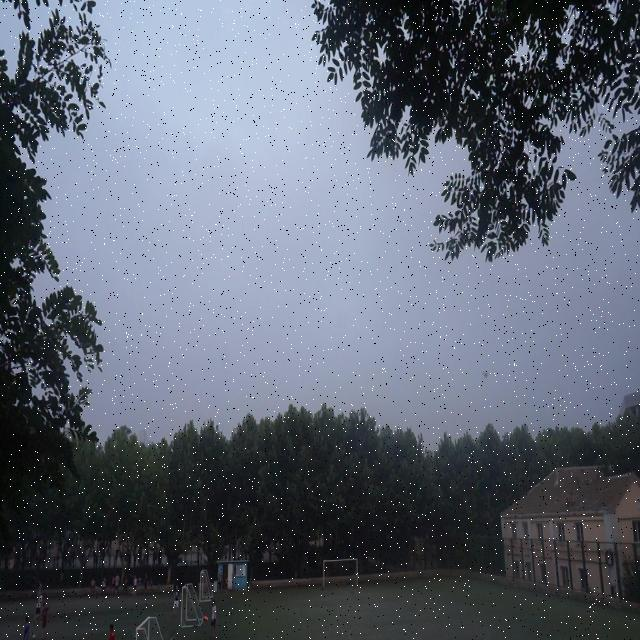UAV: (482, 372, 490, 378)
